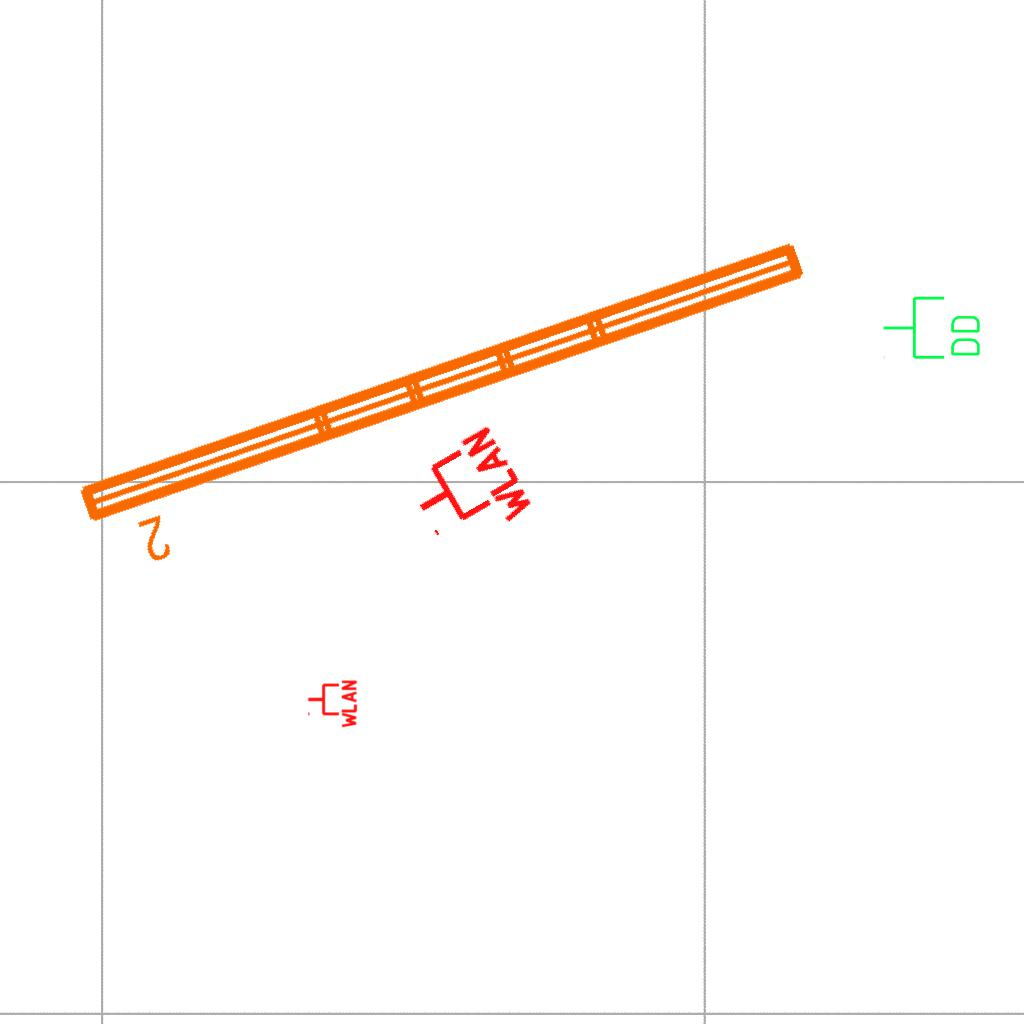Ambulanz_Pendelleuchte_LED: (66, 227, 836, 585)
Datenanschluss_zweifach: (881, 294, 984, 363)
WLAN: (396, 420, 539, 564), (306, 678, 358, 730)
